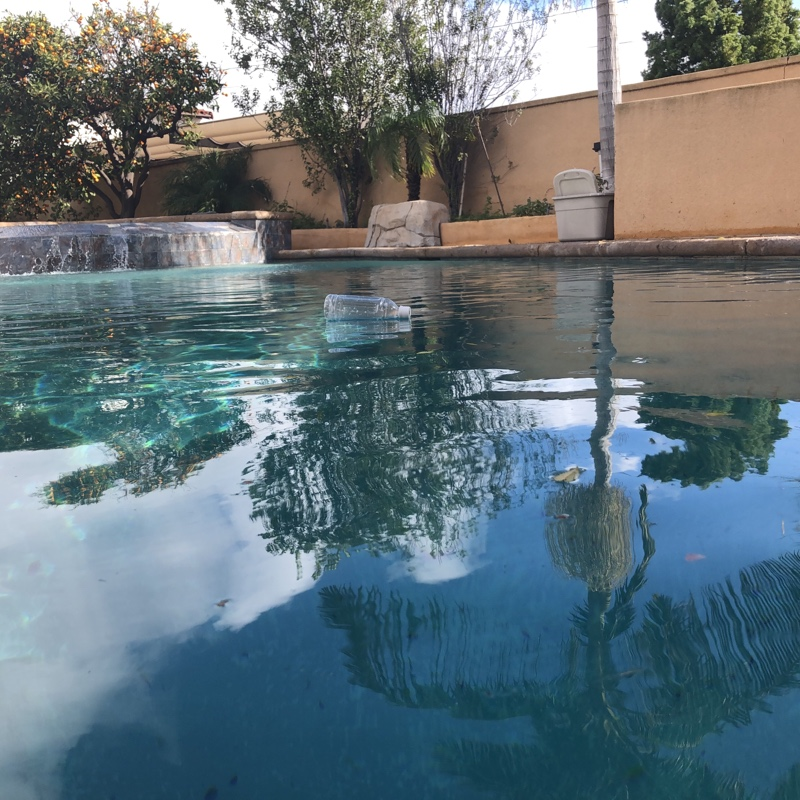Plastic Bottle: (322, 292, 413, 324)
